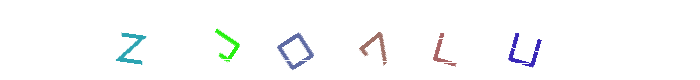0: (260, 0, 340, 80)
7: (310, 0, 390, 80)
J: (188, 0, 268, 80)
L: (363, 0, 443, 80)
U: (483, 0, 563, 80)
Z: (91, 0, 171, 80)
